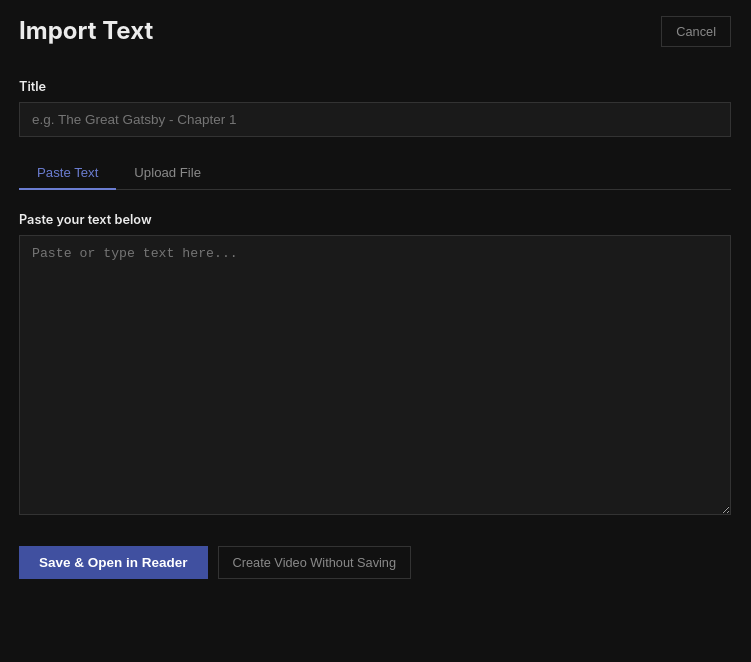
ImportPanel — Create Video Without Saving validation › blocks unsaved-video launch when title is missing
Type content but no title
Type "This is some content to test" into the text box labelled "Paste your text below" at (375, 375), box [19,235,731,515]
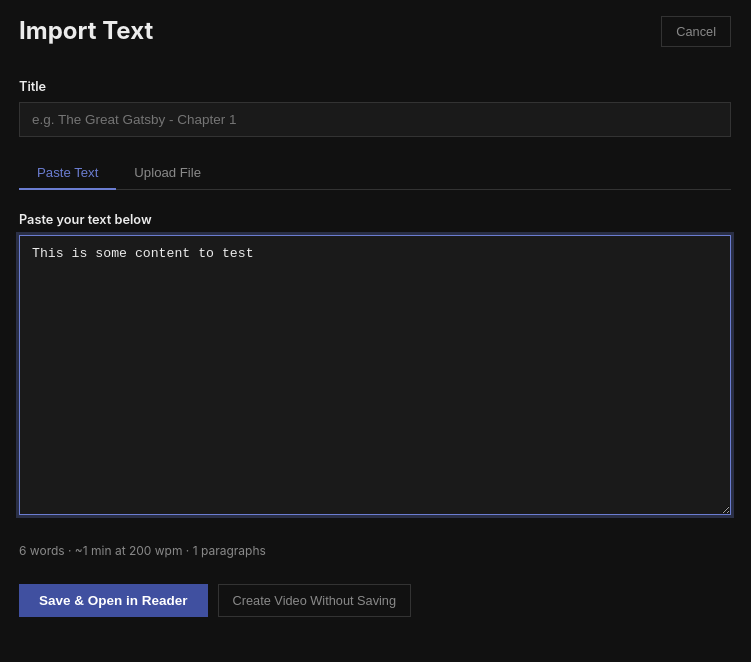
Click the button "Create Video Without Saving" at (314, 600), box [218,584,411,617]
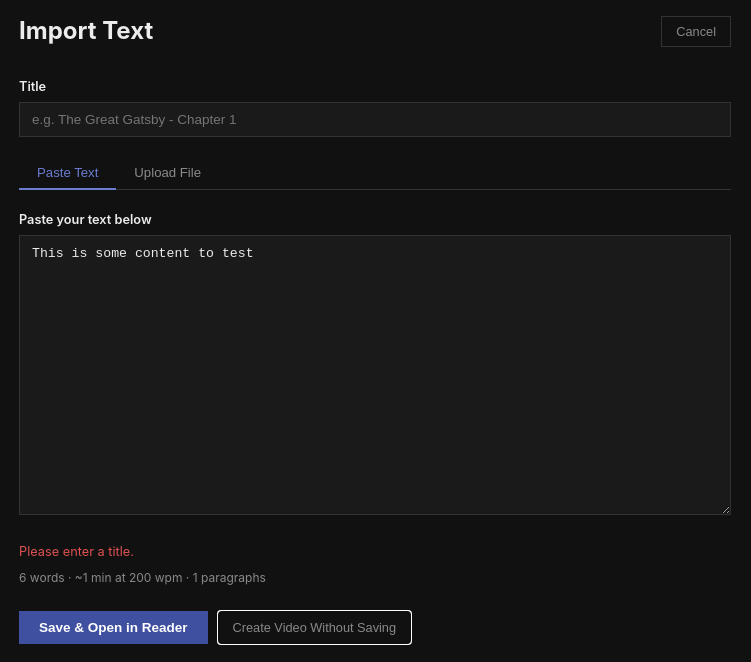
Expected: the message "Please enter a title." is shown, [19,544,134,559]
